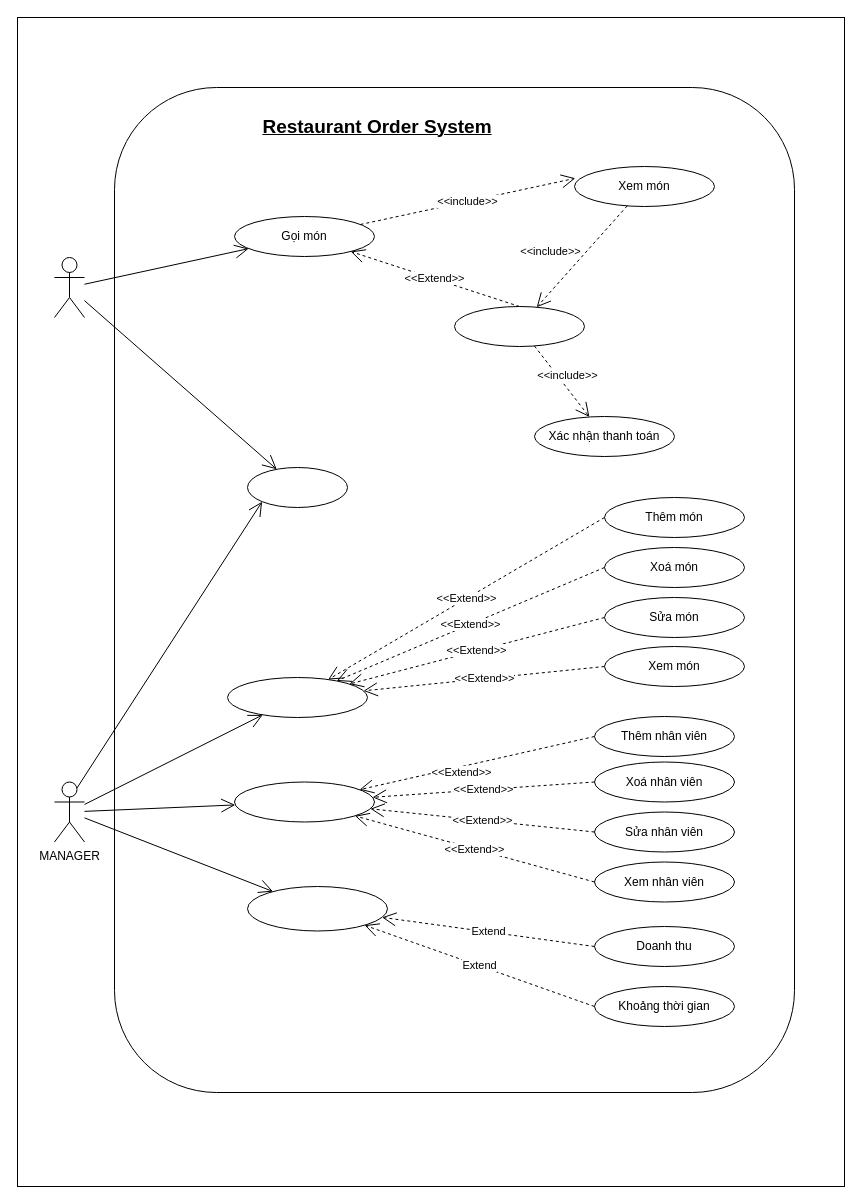
Some shapes in this 862 by 1204 pixel diagram are drawn without their labels. Here are the shapes that lost their labels. From the top down, the centre of each, then its label:
pixel 69 287: STAFF
pixel 519 326: Thêm vào bill
pixel 297 487: Login
pixel 297 697: Quản lý món
pixel 304 801: Quản lý nhân viên
pixel 317 908: Xem thống kê
